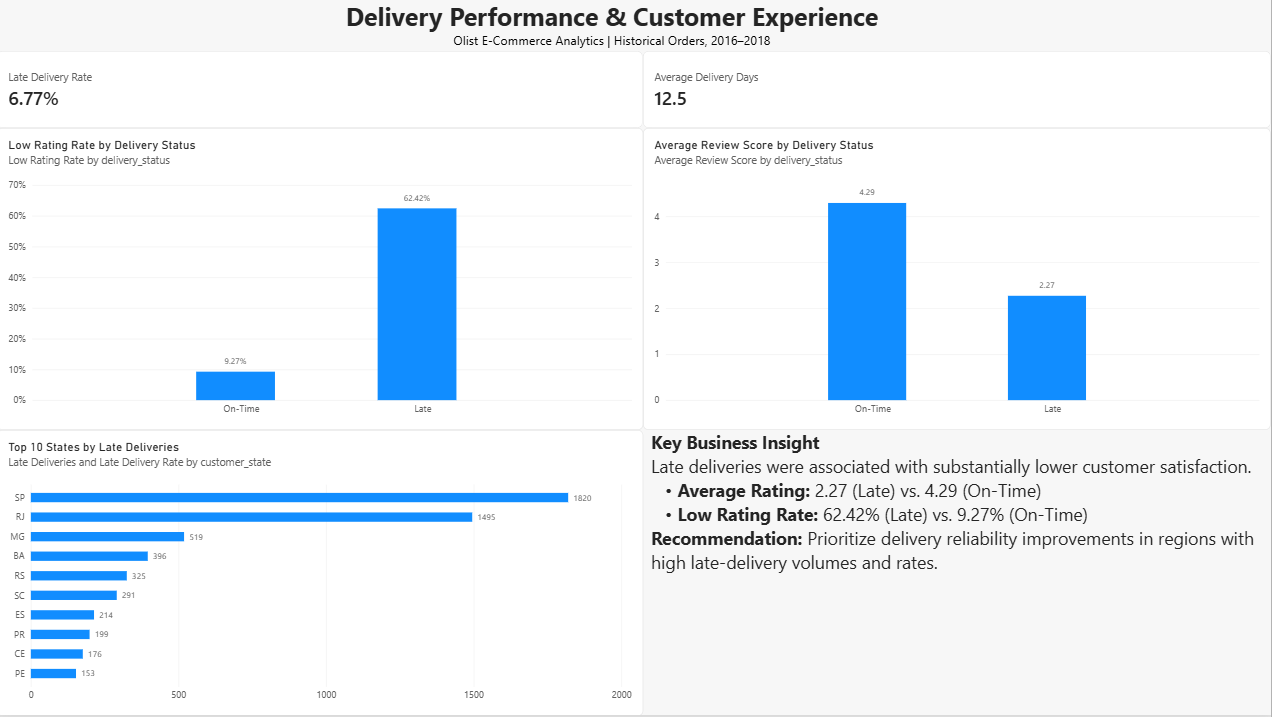

Layout of this report page (visuals, bound fields, positions):
{"tool":"powerbi","page":{"name":"Delivery & Customer Experience","canvas":[1920,1080],"ordinal":1},"visuals":[{"type":"lineClusteredColumnComboChart","title":"Average Review Score by Delivery Status","fields":{"Category":["OrderPerformance.delivery_status"],"Y":["OrderPerformance.Average Review Score"]},"box":[973.6,194.4,946.4,455.1],"z":0},{"type":"lineClusteredColumnComboChart","title":"Low Rating Rate by Delivery Status","fields":{"Category":["OrderPerformance.delivery_status"],"Y":["OrderPerformance.Low Rating Rate"]},"box":[0,194.4,973.6,455.1],"z":1},{"type":"cardVisual","fields":{"Data":["OrderPerformance.Late Delivery Rate"]},"box":[0,78.4,973.6,116],"z":2},{"type":"cardVisual","fields":{"Data":["OrderPerformance.Average Delivery Days"]},"box":[973.6,78.4,946.4,116],"z":3},{"type":"clusteredBarChart","title":"Top 10 States by Late Deliveries","fields":{"Category":["OrderPerformance.customer_state"],"Y":["OrderPerformance.Late Deliveries"]},"box":[0,649.3,973.9,430.5],"z":4},{"type":"textbox","box":[0,0,1853.7,96.5],"z":5},{"type":"textbox","box":[986,649.3,934,430.5],"z":6}]}

Visuals, with their boxes in screenshot pixels (x1, y1, x2, y2), scaled from the page's 1920x1080 canvas onto the 1274x717 screenshot:
"Average Review Score by Delivery Status" lineClusteredColumnComboChart: locate(646, 129, 1273, 431)
"Low Rating Rate by Delivery Status" lineClusteredColumnComboChart: locate(0, 129, 646, 431)
cardVisual - OrderPerformance.Late Delivery Rate: locate(0, 52, 646, 129)
cardVisual - OrderPerformance.Average Delivery Days: locate(646, 52, 1273, 129)
"Top 10 States by Late Deliveries" clusteredBarChart: locate(0, 431, 646, 716)
textbox: locate(0, 0, 1230, 64)
textbox: locate(654, 431, 1273, 716)
